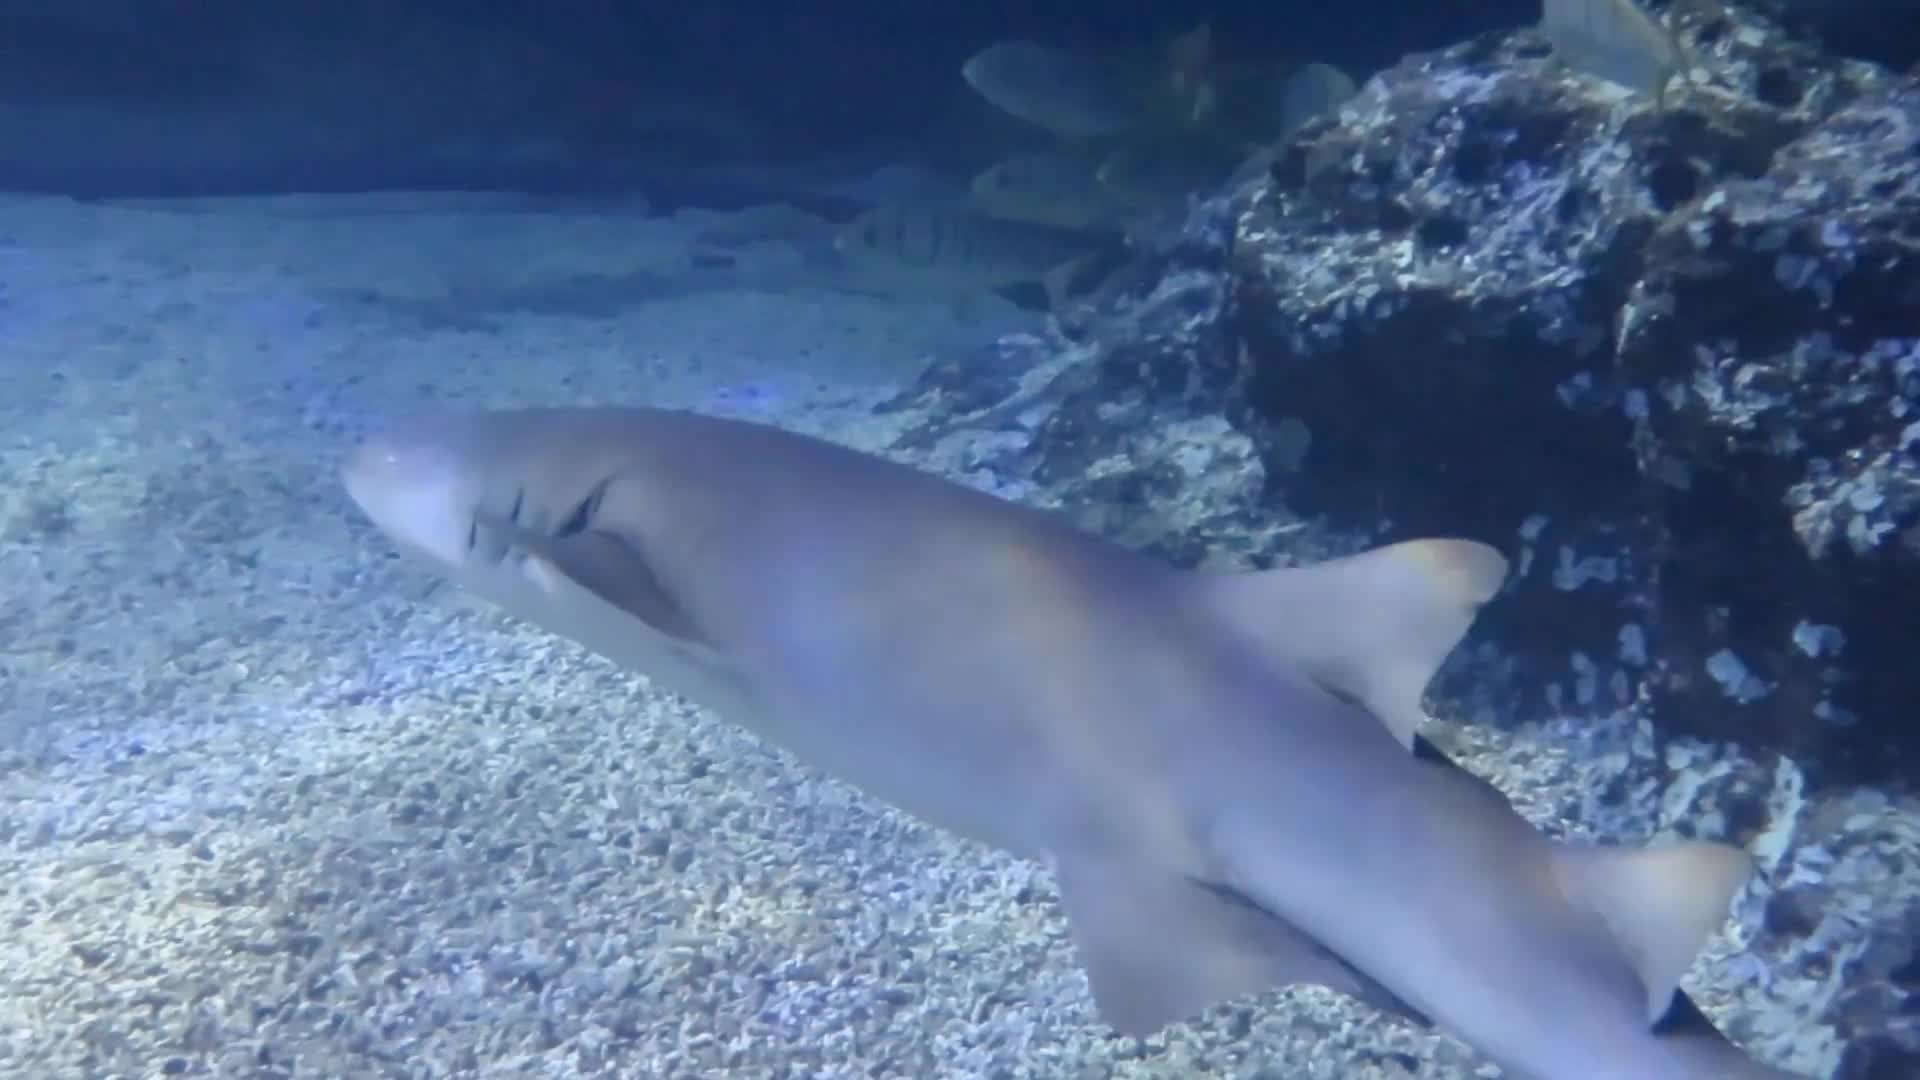Nebrius ferrugineus: (340, 378, 1701, 1080)
